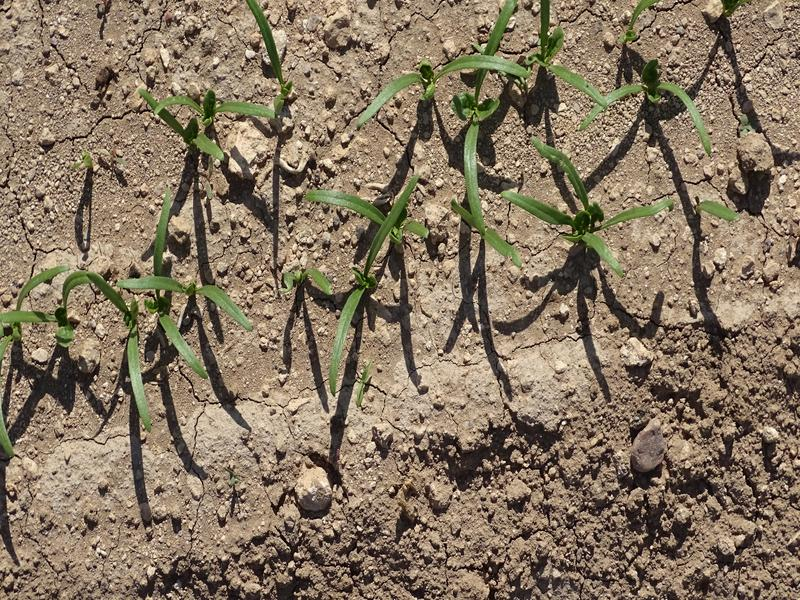Espinaca: (13, 196, 248, 415), (322, 9, 711, 132), (459, 136, 677, 278), (297, 175, 424, 394), (148, 83, 269, 168)
